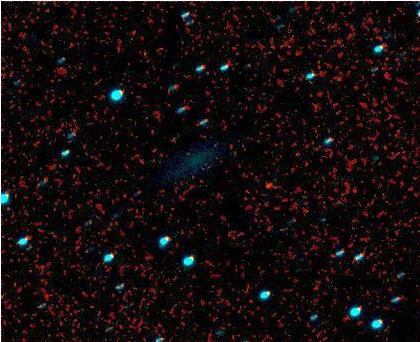star: (253, 170, 283, 200)
